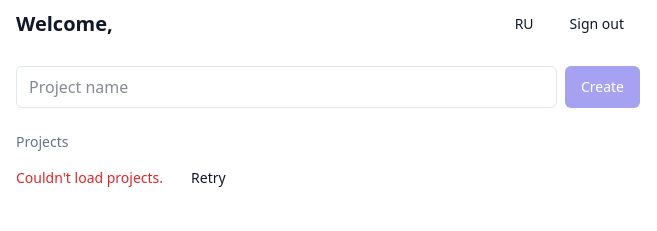
HomeScreen › shows an error with a working retry when loading fails
Expected: the message reads "Couldn't load projects.", [16,168,163,187]
Click the button "Retry" at (208, 178), box [175,160,242,196]
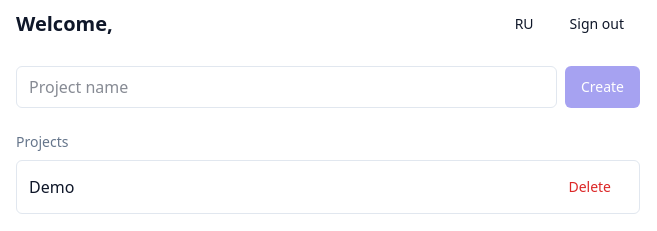
Expected: the text "Demo" is shown, [29,175,74,199]
